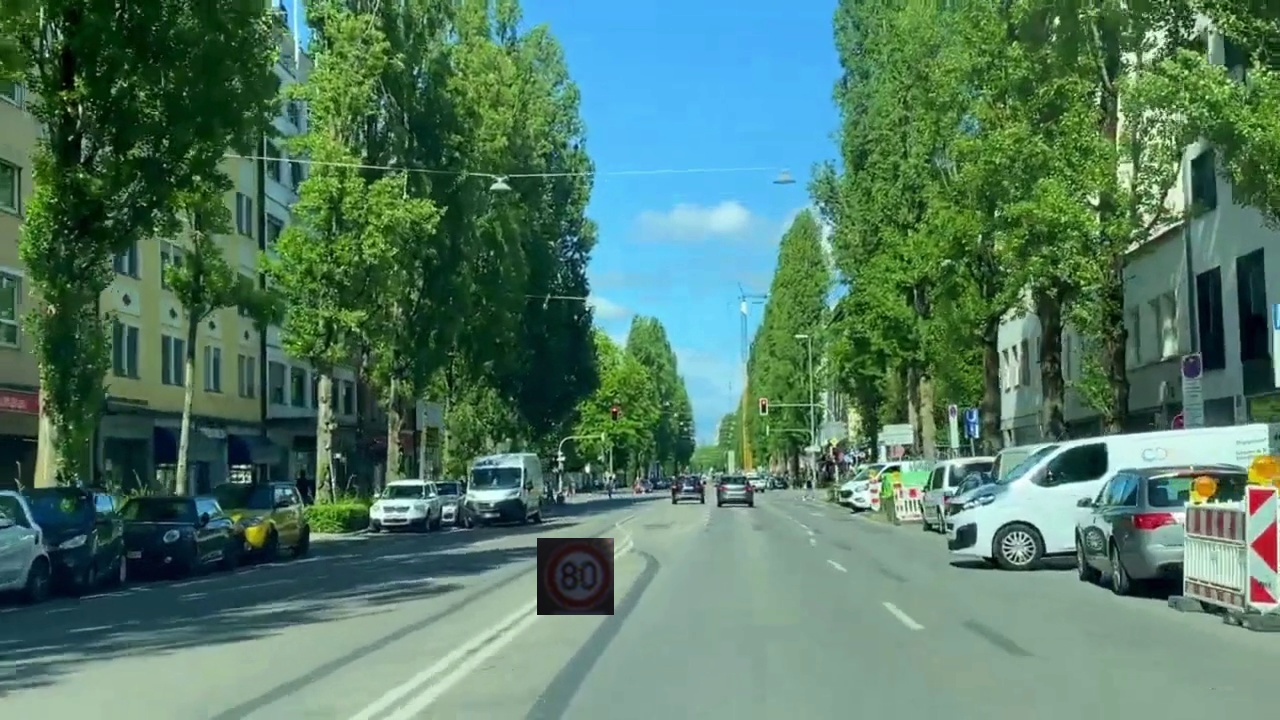Speed 80: (537, 538, 614, 615)
